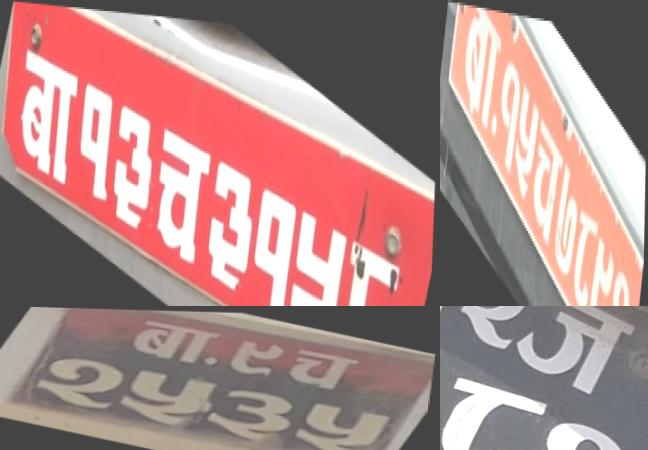1: (242, 171, 310, 306), (65, 69, 127, 206), (493, 37, 524, 184)
2: (21, 347, 142, 418), (515, 399, 648, 450), (449, 306, 548, 357), (606, 244, 634, 306)
3: (194, 140, 267, 301), (104, 93, 166, 234), (194, 380, 317, 447)
5: (108, 363, 232, 432), (280, 193, 354, 306), (278, 395, 408, 450), (511, 63, 542, 213)
7: (552, 144, 583, 291)
8: (440, 351, 563, 450), (329, 215, 412, 306), (570, 184, 600, 306)
9: (220, 332, 298, 380), (588, 213, 618, 306)
ba: (3, 28, 89, 195), (458, 3, 503, 140), (119, 317, 229, 369)
cha: (141, 109, 220, 273), (529, 99, 566, 257), (274, 342, 368, 396)
ja: (505, 306, 648, 408)
